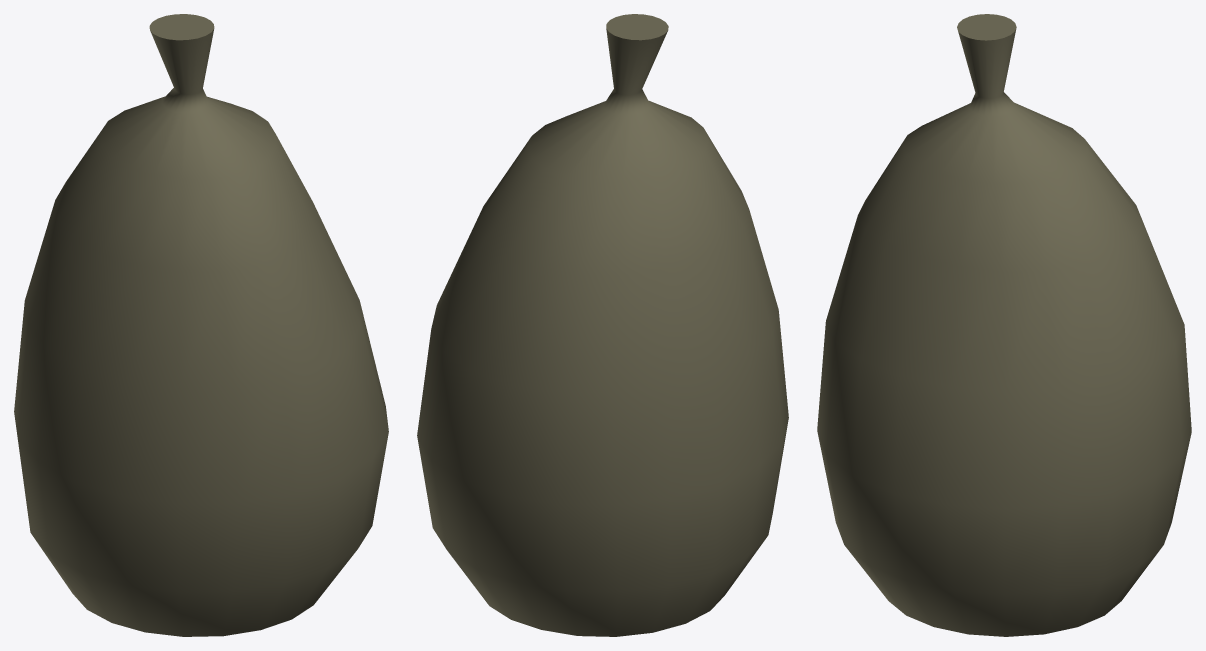
Rendered from SM_Prop_Bag.fbx.
3 views of the same model, side by side, from view 1: azimuth 30°, elevation 25°; view 2: azimuth 150°, elevation 25°; view 3: azimuth 270°, elevation 25° (orthographic). The views are drawn at different scales.
Parts seen in each view (by area): view 1: SM_Prop_Bag; view 2: SM_Prop_Bag; view 3: SM_Prop_Bag.
Part boxes in pixels (bbox=[...]): SM_Prop_Bag: bbox=[14, 14, 388, 636]; SM_Prop_Bag: bbox=[417, 14, 788, 636]; SM_Prop_Bag: bbox=[817, 14, 1191, 636].
Size of the model in its own units: 29.48 by 49.84 by 30.6.
